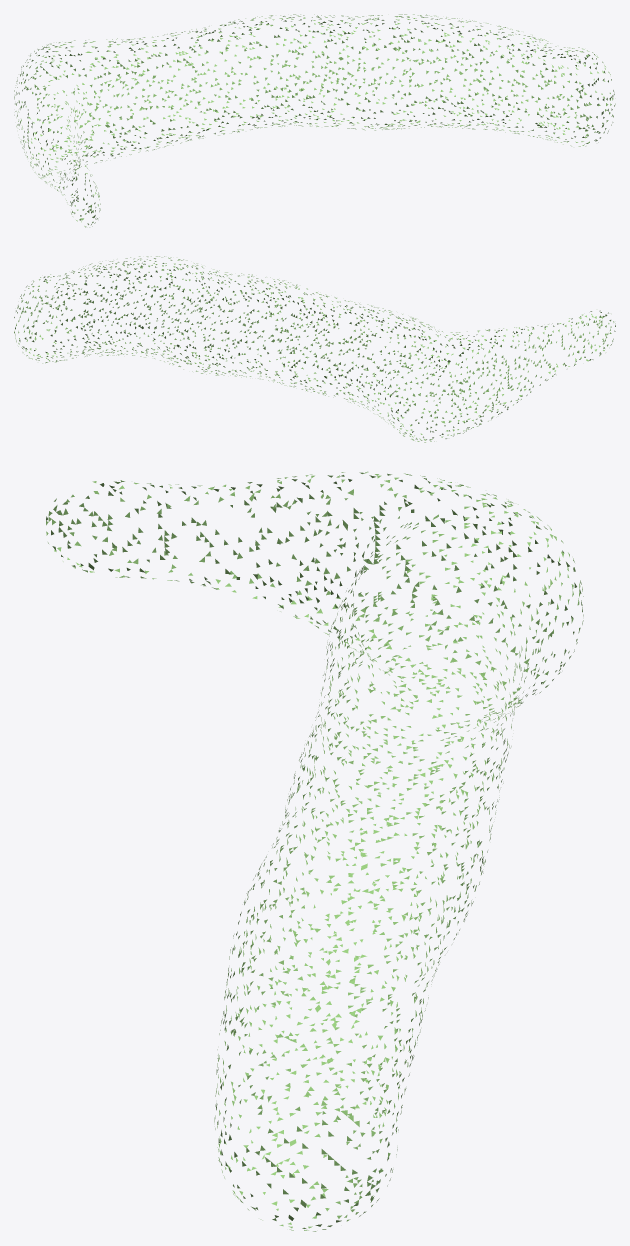
File: morph_014.glb
3 renders of one model, top to bottom at view 1: azimuth 30°, elevation 25°; view 2: azimuth 150°, elevation 25°; view 3: azimuth 270°, elevation 25°, orthographic. The views are drawn at different scales.
Bounding box in the file's own units: 141 × 40.31 × 62.13.
